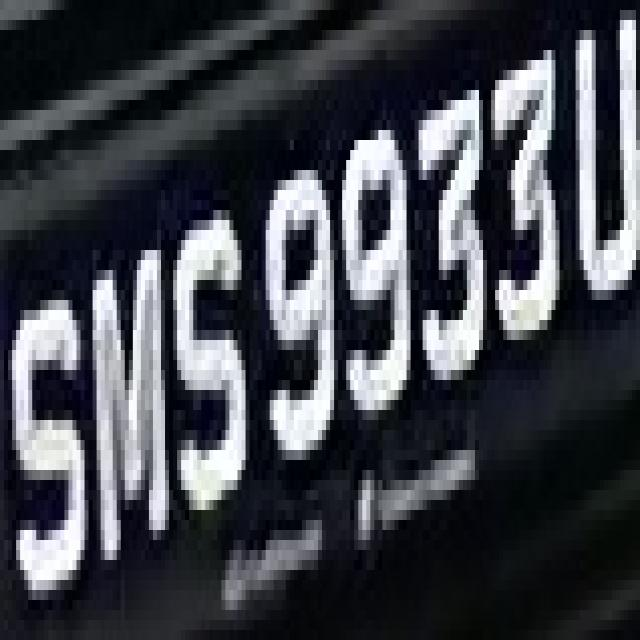3: (467, 40, 576, 370), (403, 50, 491, 420)
9: (326, 110, 427, 470), (254, 120, 346, 470)
M: (77, 210, 173, 570)
S: (8, 260, 89, 620), (169, 190, 254, 530)
U: (4, 0, 4, 5)
